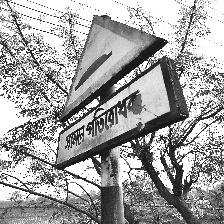Speed-breaker: (55, 14, 188, 170)
